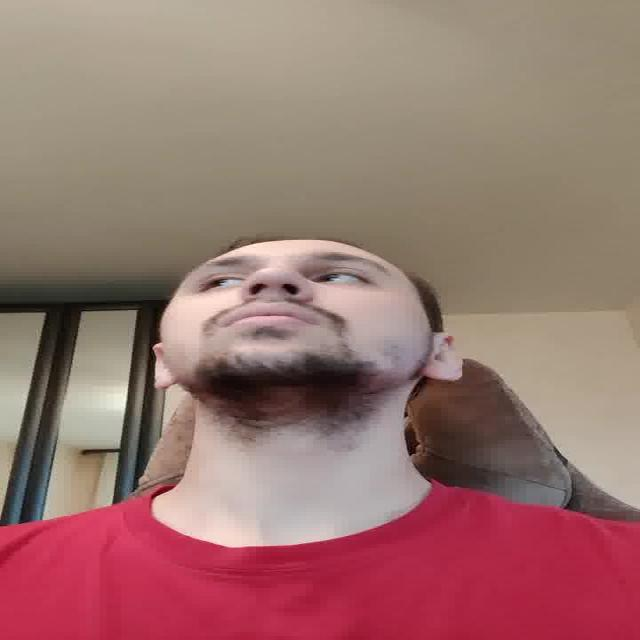earlobe: (422, 332, 464, 381), (149, 343, 179, 391)
